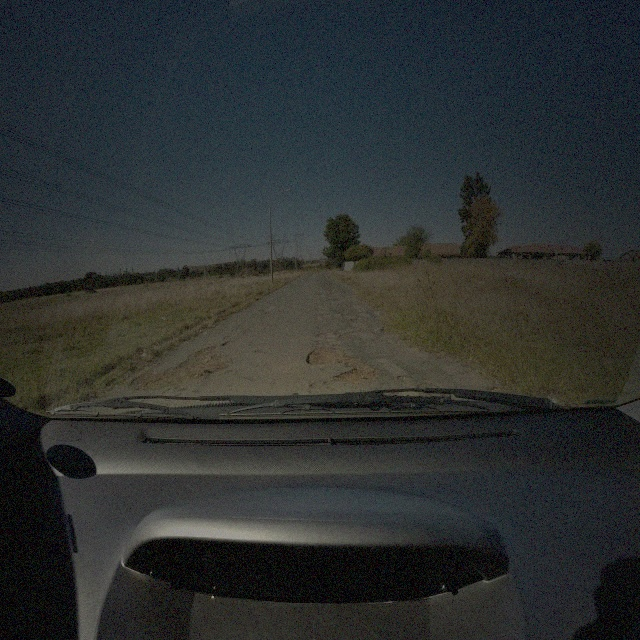pothole: (128, 340, 235, 396), (305, 344, 378, 386), (305, 346, 346, 367), (396, 375, 412, 384)
